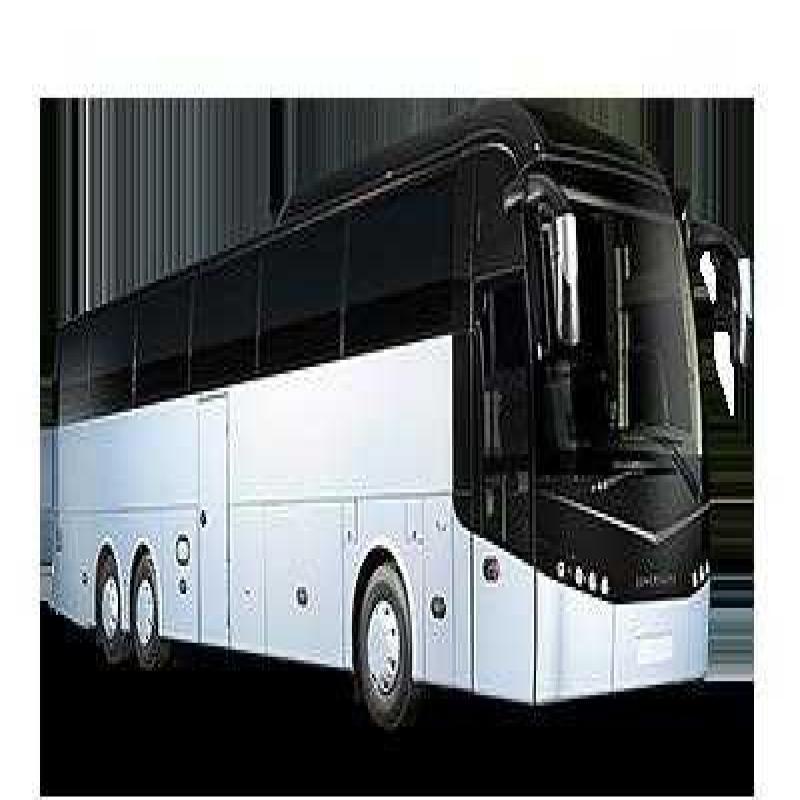bus: (51, 121, 730, 763)
